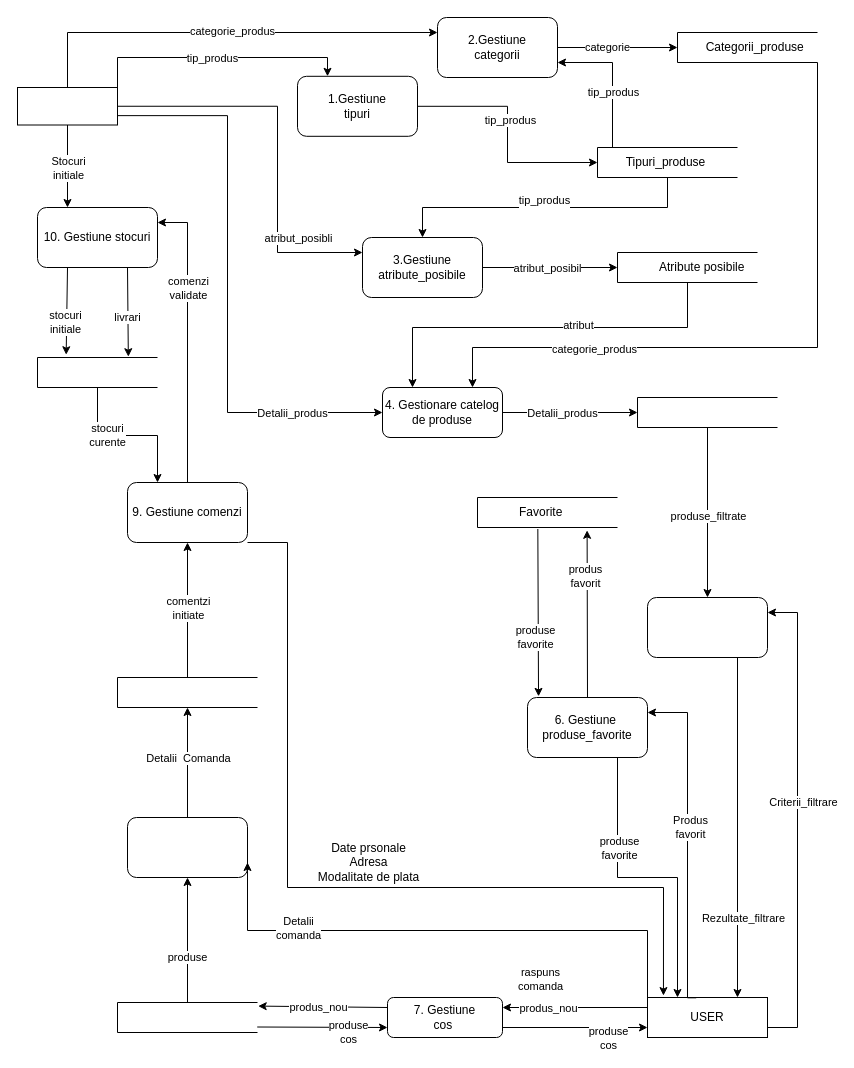
The diagram is 854 pixels wide and 1068 high, and some of its shapes have lost their labels. Here are the shapes that lost their labels. From the top down, the centre of each, then its label:
[67,105]: ADMIN
[97,372]: Stocuri
[707,412]: Catalog_de_produse
[707,627]: 5. Filtrare produse
[187,692]: Comenzi
[187,847]: 8. Initiere comanda
[187,1017]: Cos_de_cumparaturi
